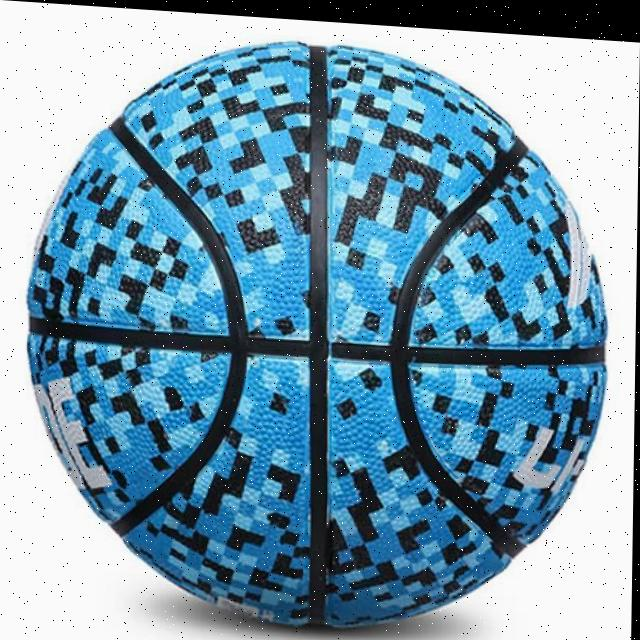Basketball: (23, 25, 610, 640)
